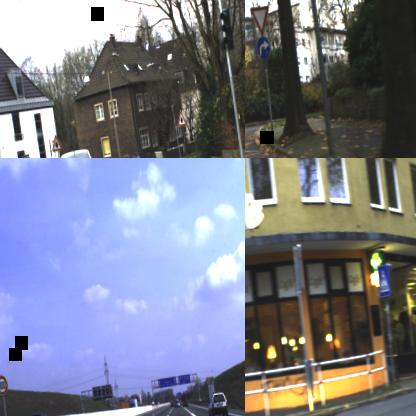give way: (250, 5, 272, 36)
go right or straight: (254, 34, 272, 60)
priority at next intersection: (49, 133, 62, 152), (175, 108, 187, 126)
speed limit 100: (0, 374, 9, 395)
